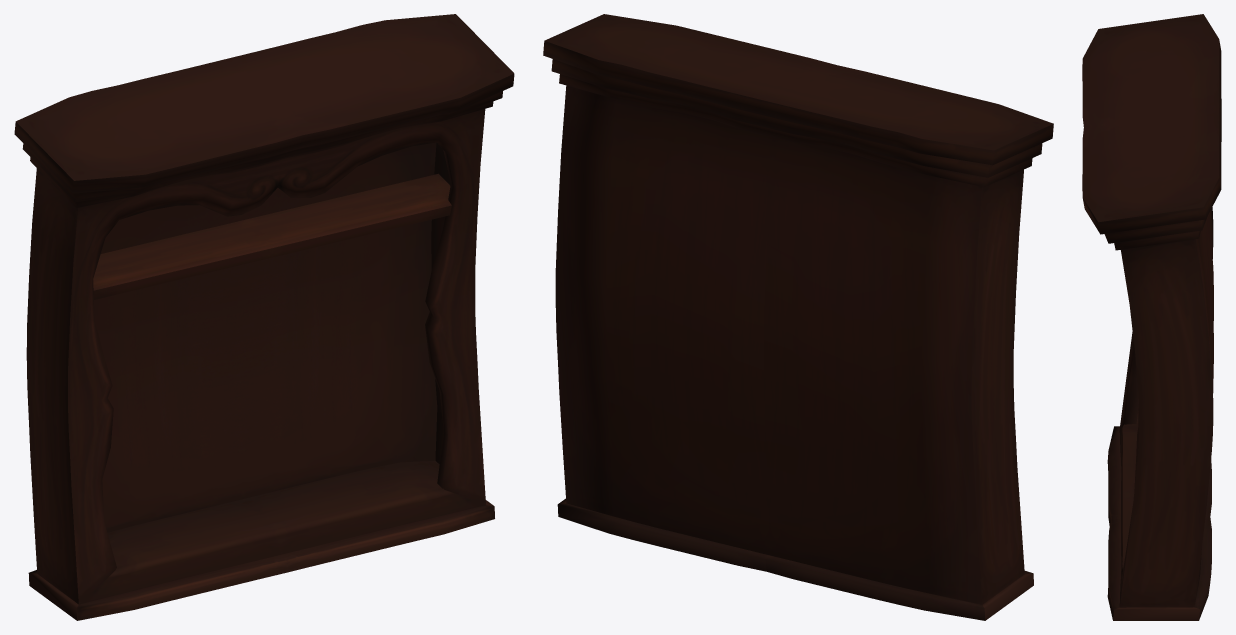
The model's file is Shelf.fbx.
The picture shows the model from 3 angles, left to right: view 1: azimuth 30°, elevation 25°; view 2: azimuth 150°, elevation 25°; view 3: azimuth 270°, elevation 25°; orthographic projection. The views are drawn at different scales.
Parts seen in each view (by area): view 1: Shelf, ShelfPlank2; view 2: Shelf; view 3: Shelf.
Part boxes in pixels (x1,y1,x2,y2): Shelf: (14, 14, 514, 620); ShelfPlank2: (93, 173, 451, 299); Shelf: (543, 14, 1053, 620); Shelf: (1082, 14, 1221, 620).
Size of the model in its own units: 21.92 by 22.36 by 6.67.
